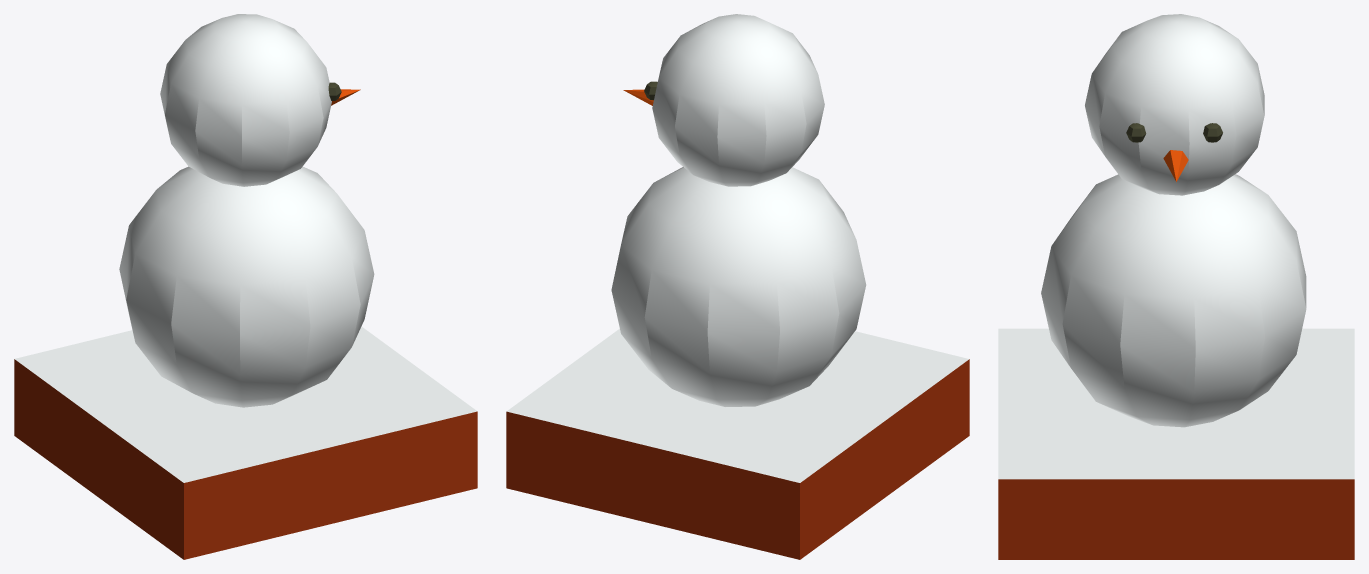
The model's file is Snowman.fbx.
The picture shows the model from 3 angles, left to right: view 1: azimuth 30°, elevation 25°; view 2: azimuth 150°, elevation 25°; view 3: azimuth 270°, elevation 25°; orthographic projection. The views are drawn at different scales.
Visible parts, largest first — view 1: snowman; view 2: snowman; view 3: snowman.
Boxes of the visible parts, x1,y1,x2,y2 form: snowman: [14, 14, 477, 559]; snowman: [506, 14, 969, 559]; snowman: [998, 14, 1354, 559].
Size of the model in its own units: 200 by 286 by 200.
Materials: 1 (1 with a texture image).
